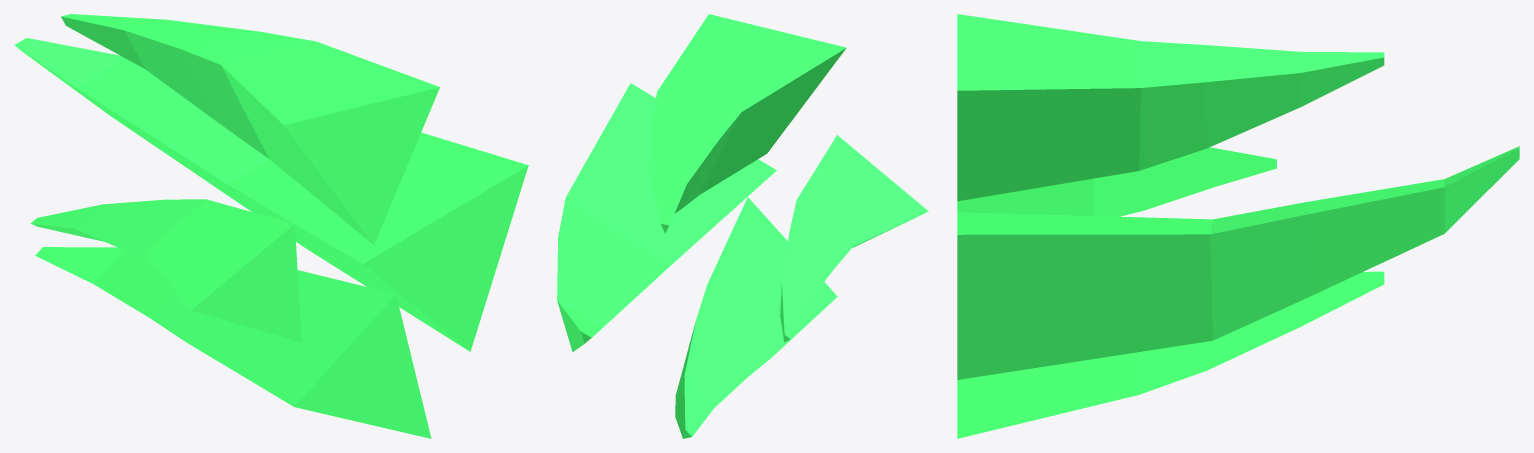
Rendered from Grass_1.fbx.
The picture shows the model from 3 angles, left to right: view 1: azimuth 30°, elevation 25°; view 2: azimuth 150°, elevation 25°; view 3: azimuth 270°, elevation 25°; orthographic projection. The views are drawn at different scales.
Visible parts, largest first — view 1: Grass_1; view 2: Grass_1; view 3: Grass_1.
Boxes of the visible parts, x1,y1,x2,y2 form: Grass_1: (14, 14, 528, 438); Grass_1: (557, 14, 928, 438); Grass_1: (957, 14, 1519, 438).
Size of the model in its own units: 14.52 by 14.29 by 20.67.
